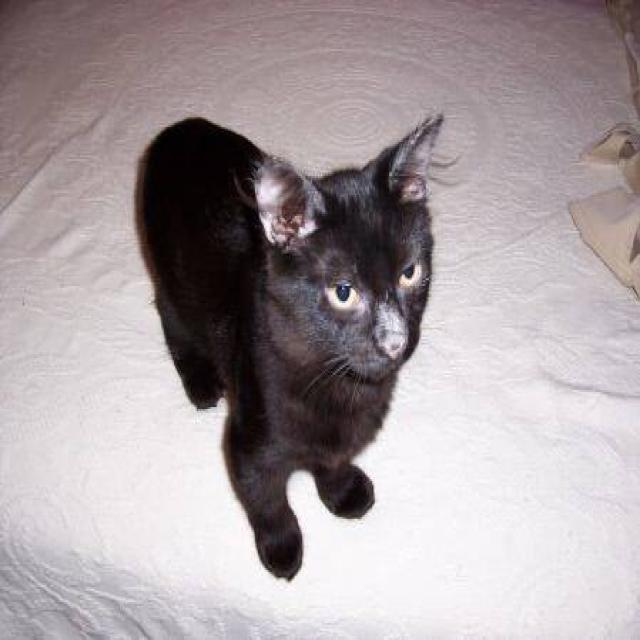cat: (133, 110, 453, 581)
